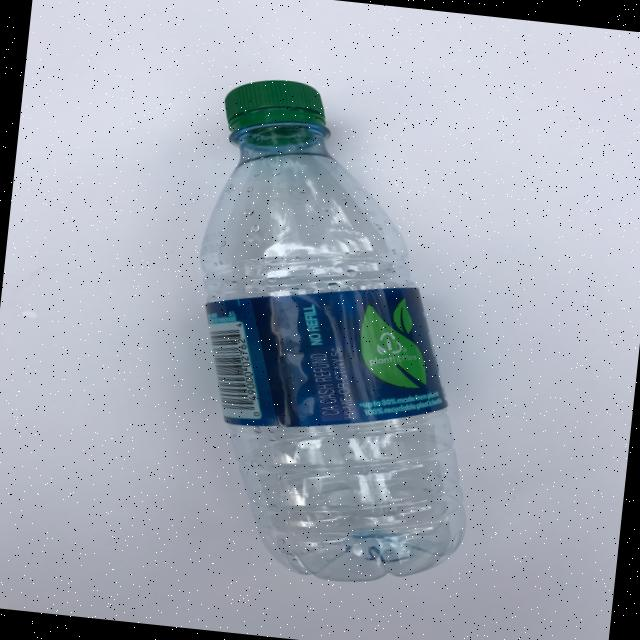plastic: (165, 72, 510, 594)
